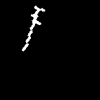double_crochet: (22, 6, 44, 50)
